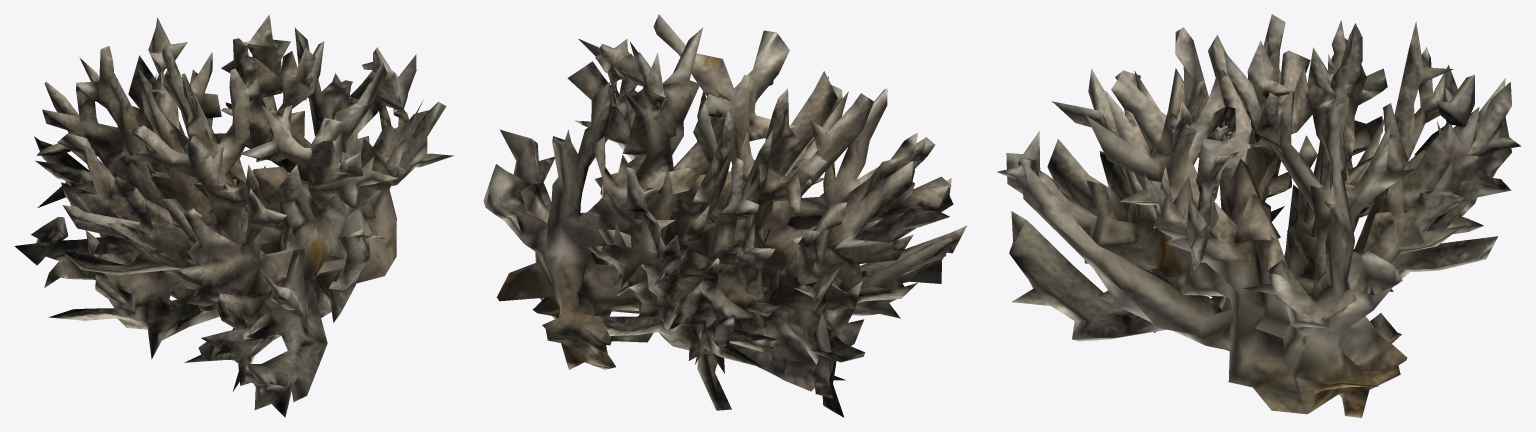
The model's file is smithsonian-coral-lod.glb.
The picture shows the model from 3 angles, left to right: view 1: azimuth 30°, elevation 25°; view 2: azimuth 150°, elevation 25°; view 3: azimuth 270°, elevation 25°; orthographic projection. The views are drawn at different scales.
Parts seen in each view (by area): view 1: Normalized exhibit; view 2: Normalized exhibit; view 3: Normalized exhibit.
Boxes of the visible parts, x1,y1,x2,y2 form: Normalized exhibit: (14, 14, 453, 417); Normalized exhibit: (483, 14, 967, 417); Normalized exhibit: (997, 14, 1520, 417).
Bounding box in the file's own units: 0.9589 × 0.7172 × 0.987.
1 material, 1 textured.
